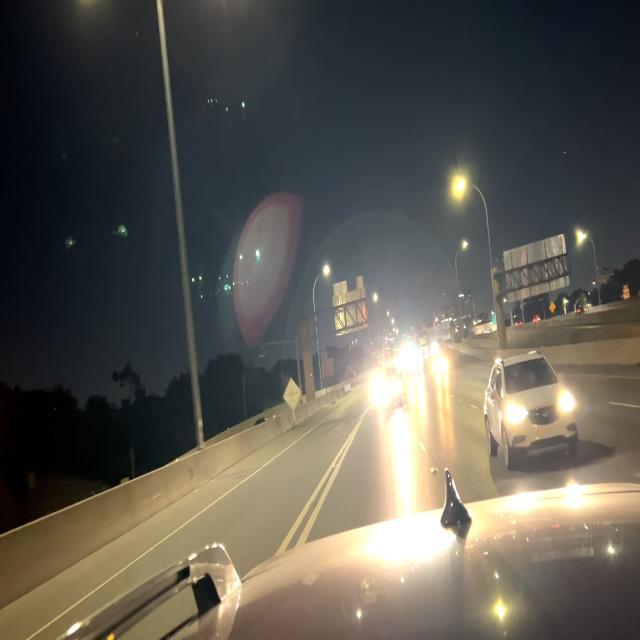back-of-sign: (502, 232, 570, 307), (331, 271, 369, 339), (283, 377, 303, 415)
